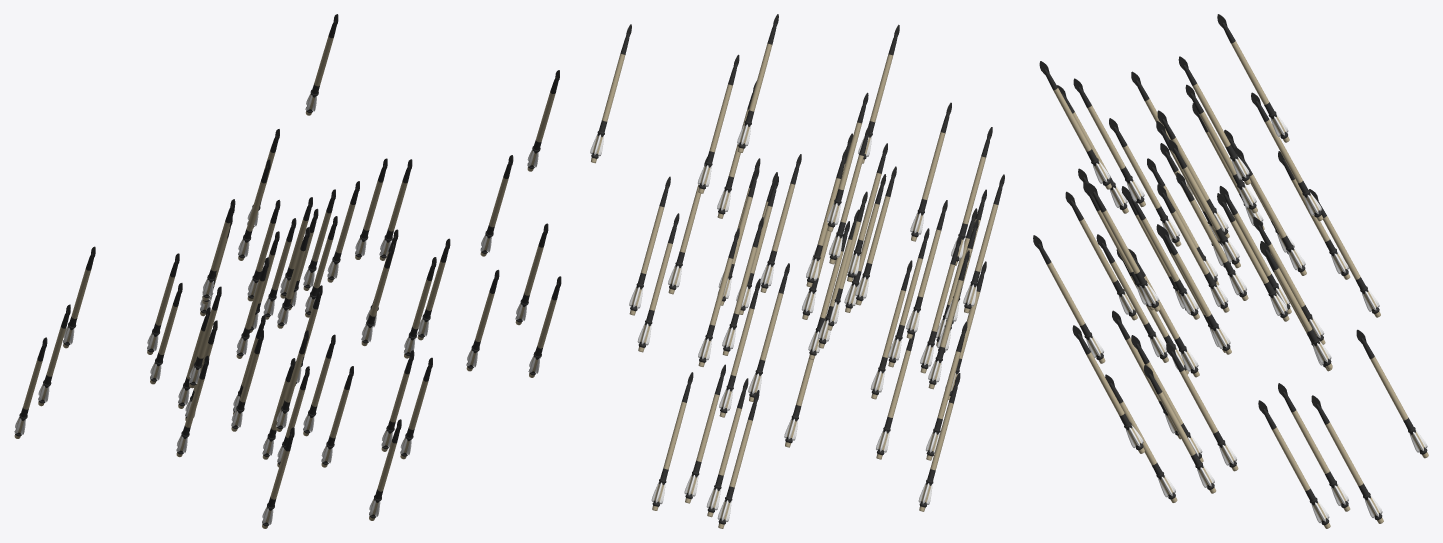
3 views of the same model, side by side, from view 1: azimuth 30°, elevation 25°; view 2: azimuth 150°, elevation 25°; view 3: azimuth 270°, elevation 25° (orthographic). The views are drawn at different scales.
Parts seen in each view (by area): view 1: C3; view 2: C3; view 3: C3.
Boxes of the visible parts, x1=… form: C3: x1=14, y1=14, x2=561, y2=528; C3: x1=590, y1=14, x2=1004, y2=528; C3: x1=1033, y1=14, x2=1428, y2=528.
Bounding box in the file's own units: 1.21 × 1.3 × 0.9405.
